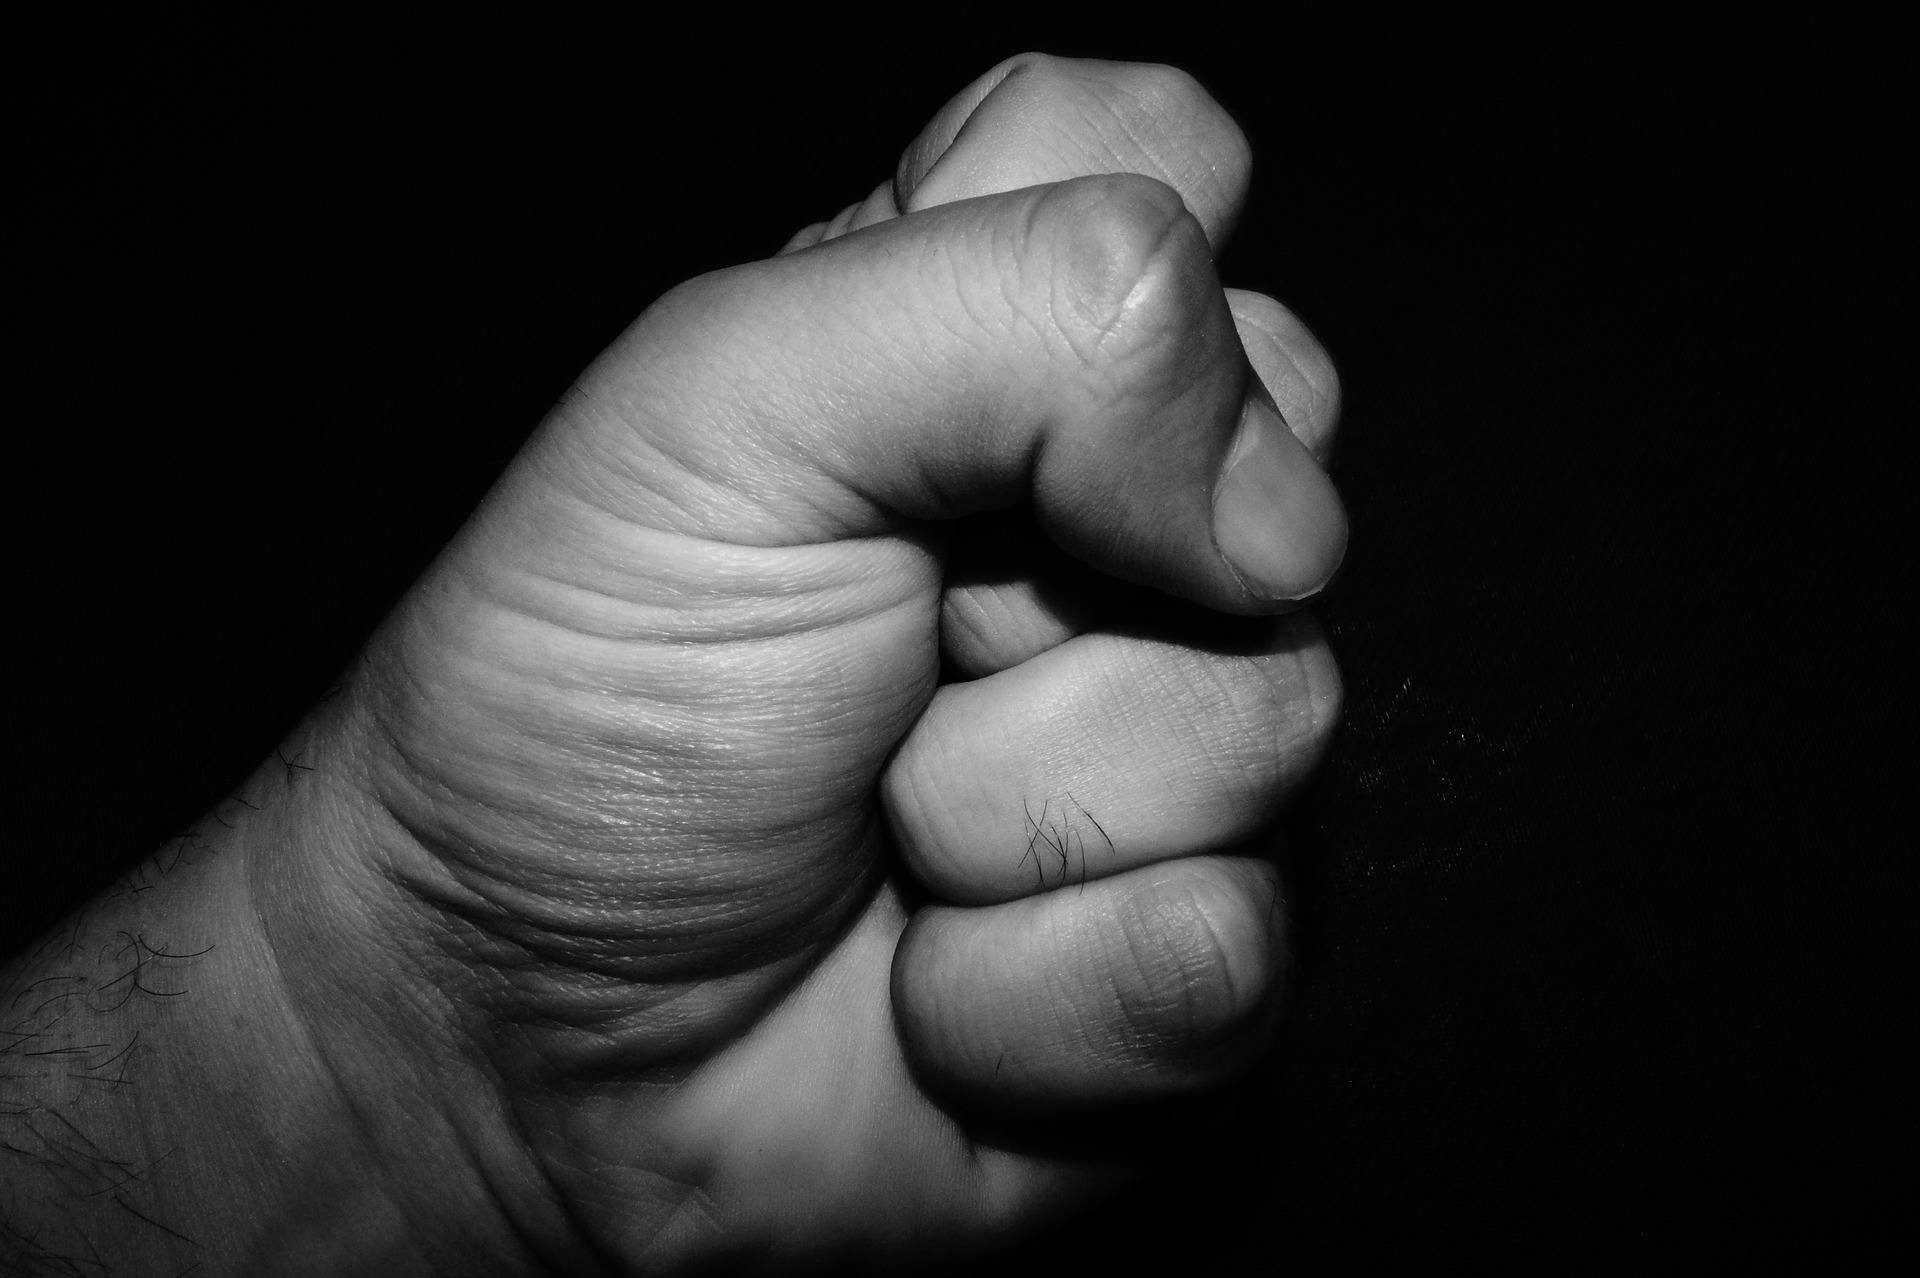fist: (565, 157, 1455, 1141)
